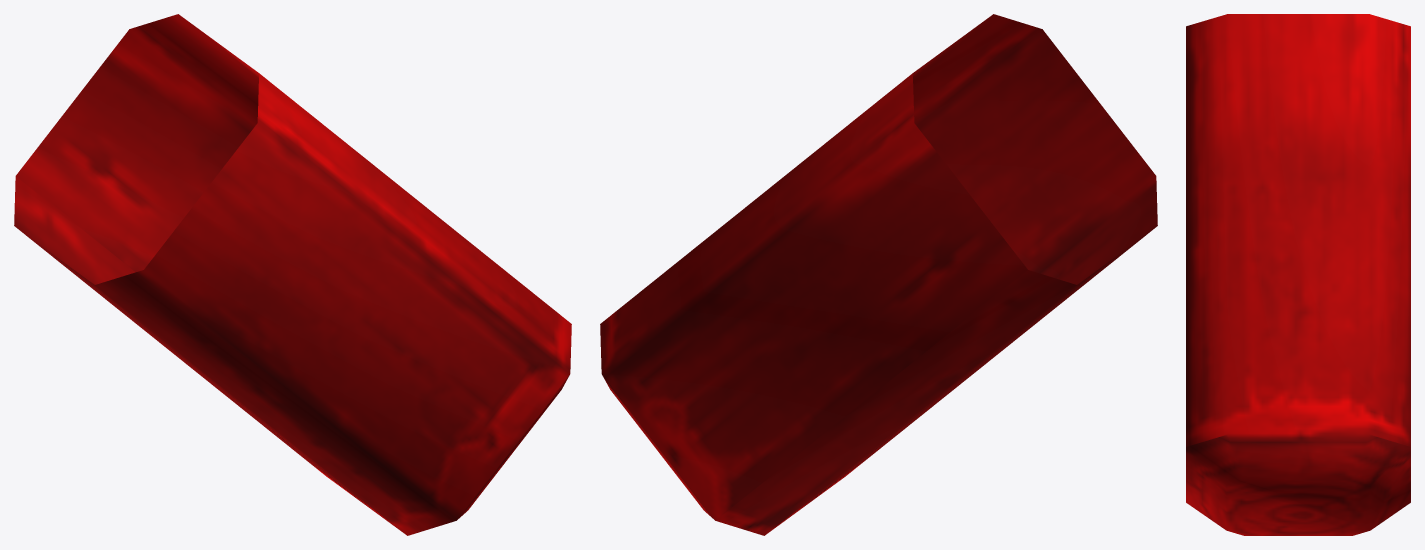
Rendered from RoofCornerRight01.fbx.
3 renders of one model, left to right at view 1: azimuth 30°, elevation 25°; view 2: azimuth 150°, elevation 25°; view 3: azimuth 270°, elevation 25°, orthographic. The views are drawn at different scales.
Visible parts, largest first — view 1: RoofCornerRight01; view 2: RoofCornerRight01; view 3: RoofCornerRight01.
Part boxes in pixels (bbox=[...]): RoofCornerRight01: bbox=[14, 14, 571, 535]; RoofCornerRight01: bbox=[600, 14, 1157, 535]; RoofCornerRight01: bbox=[1186, 14, 1410, 535].
Bounding box in the file's own units: 0.3839 × 0.3839 × 0.1788.
